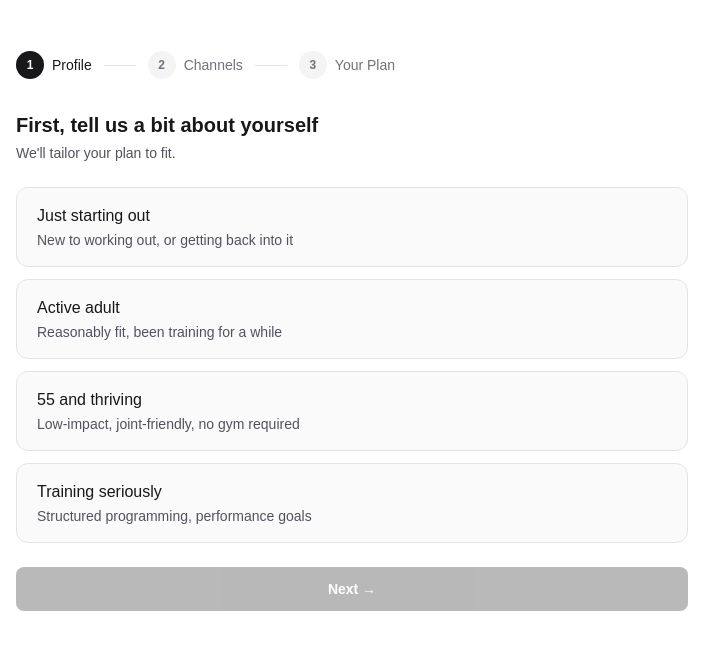
Test: OnboardingPage - Step 2 (Goal) › shows athlete goals after selecting 'Training seriously' and clicking Next
This screenshot has width=705, height=663.
Expected: the heading "First, tell us a bit about yourself" is shown, [16,114,318,136]
Click the text "Training seriously": (99, 492) [37,483,162,500]
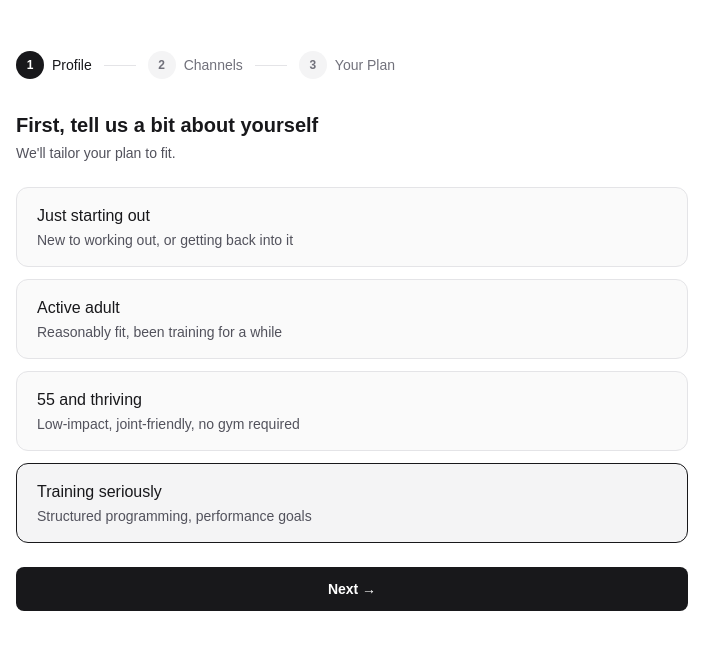
Click the button "Next →": (352, 589) [16,567,688,611]
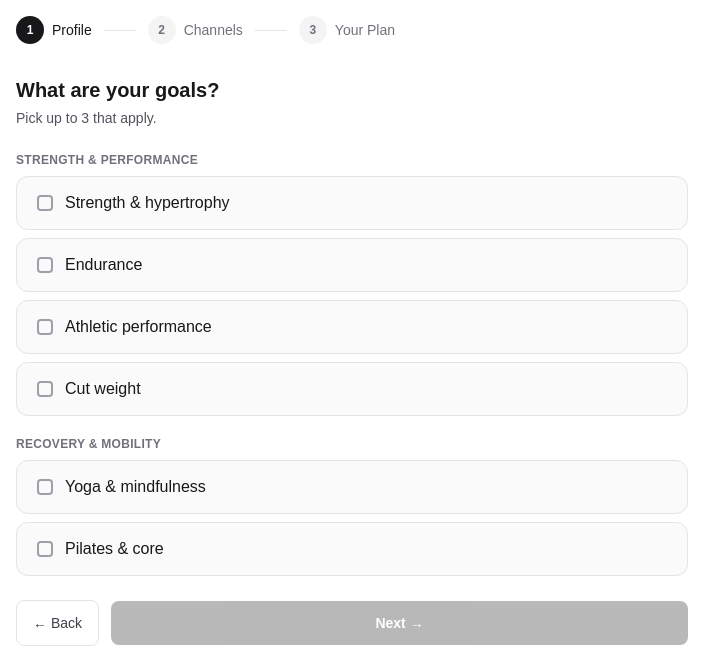
Expected: the text "Strength & hypertrophy" is shown, [65,191,230,215]
Expected: the text "Endurance" is shown, [65,253,142,277]
Expected: the text "Athletic performance" is shown, [65,315,212,339]
